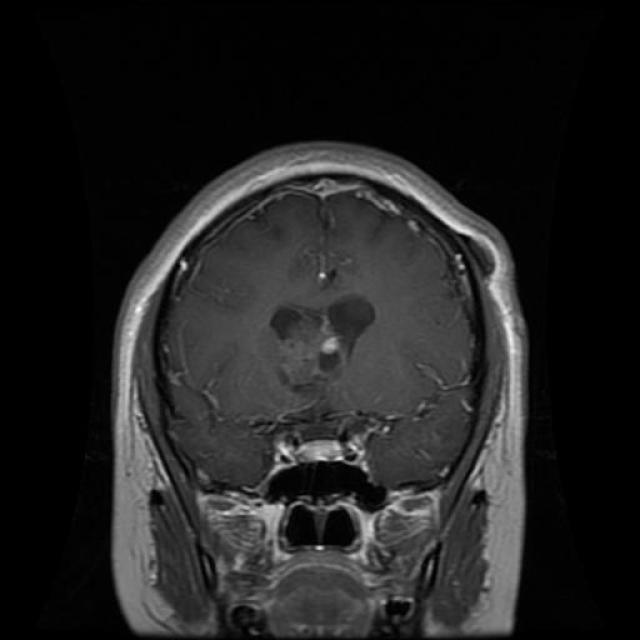glioma: (268, 288, 382, 402)
